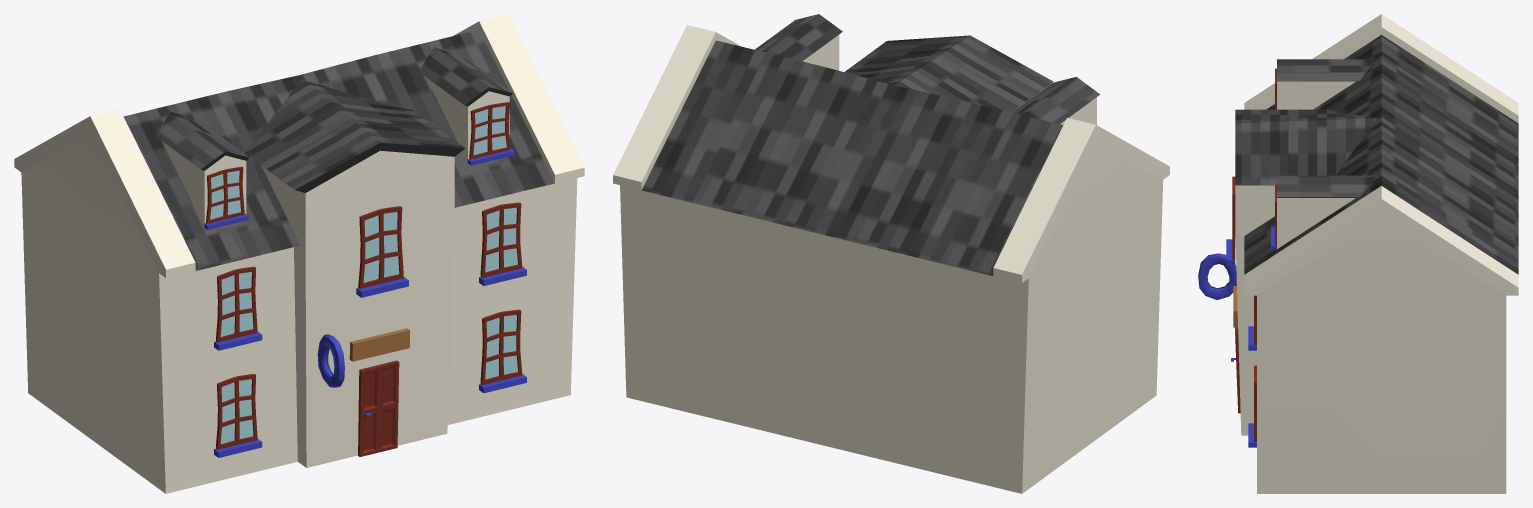
File: Pub.fbx
3 renders of one model, left to right at view 1: azimuth 30°, elevation 25°; view 2: azimuth 150°, elevation 25°; view 3: azimuth 270°, elevation 25°, orthographic. The views are drawn at different scales.
Visible parts, largest first — view 1: pub1; view 2: pub1; view 3: pub1.
Boxes of the visible parts, x1,y1,x2,y2 form: pub1: [14, 14, 584, 493]; pub1: [613, 14, 1169, 493]; pub1: [1198, 14, 1518, 493].
Bounding box in the file's own units: 10.05 × 7.57 × 7.36.
